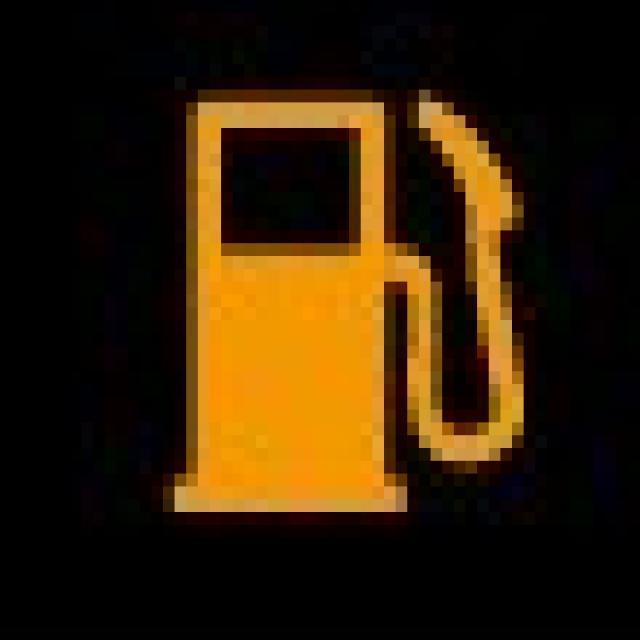Low fuel level: (151, 64, 512, 499)
